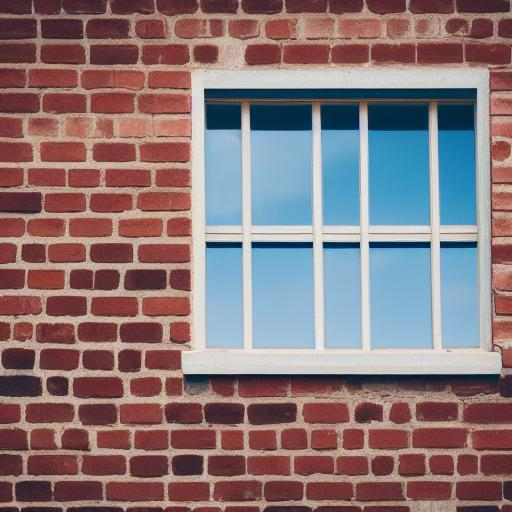Window: (176, 70, 506, 384)
